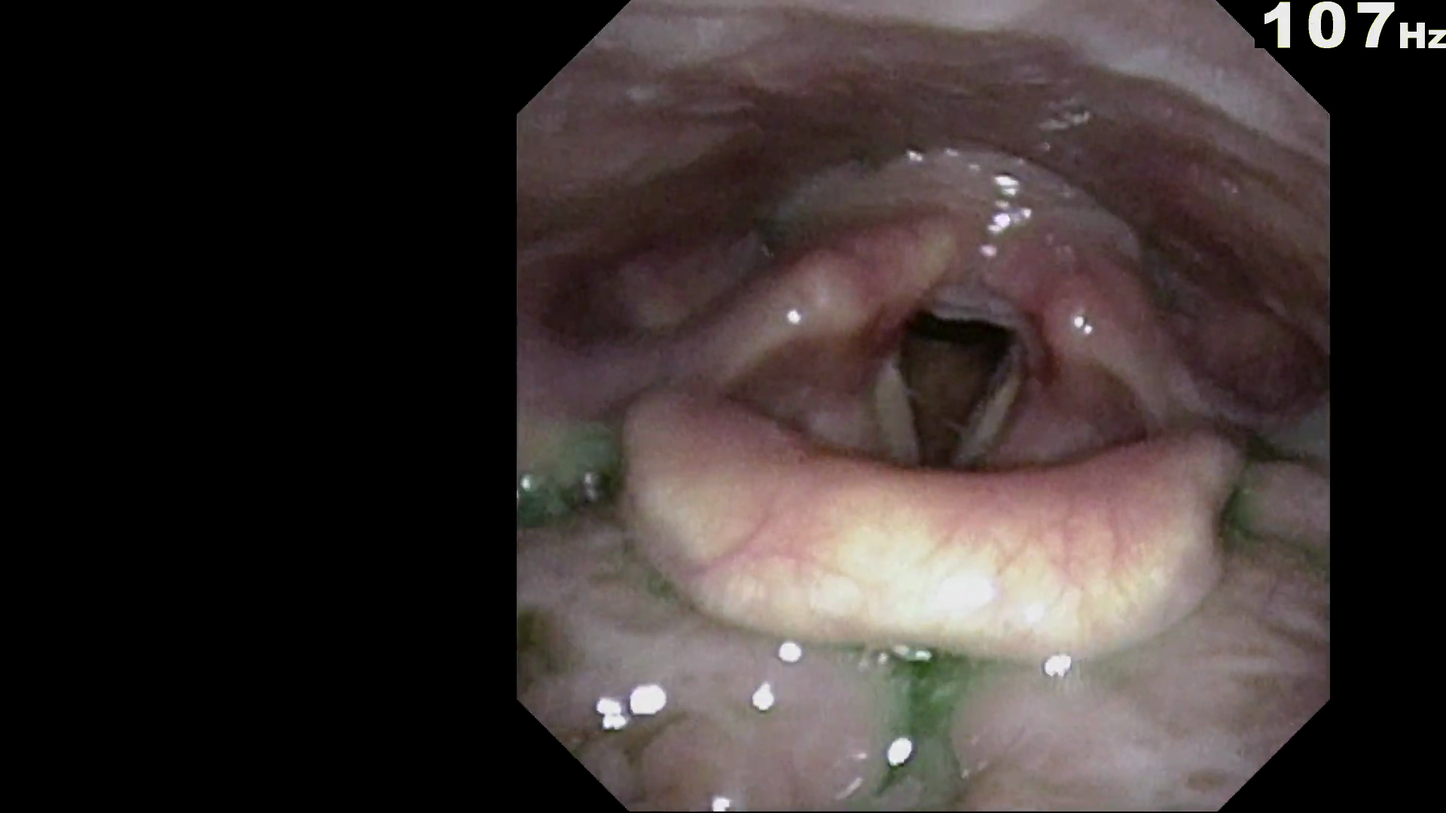epiglottis: (594, 378, 1272, 649), (602, 489, 1226, 761)
trachea: (895, 299, 1020, 470)
